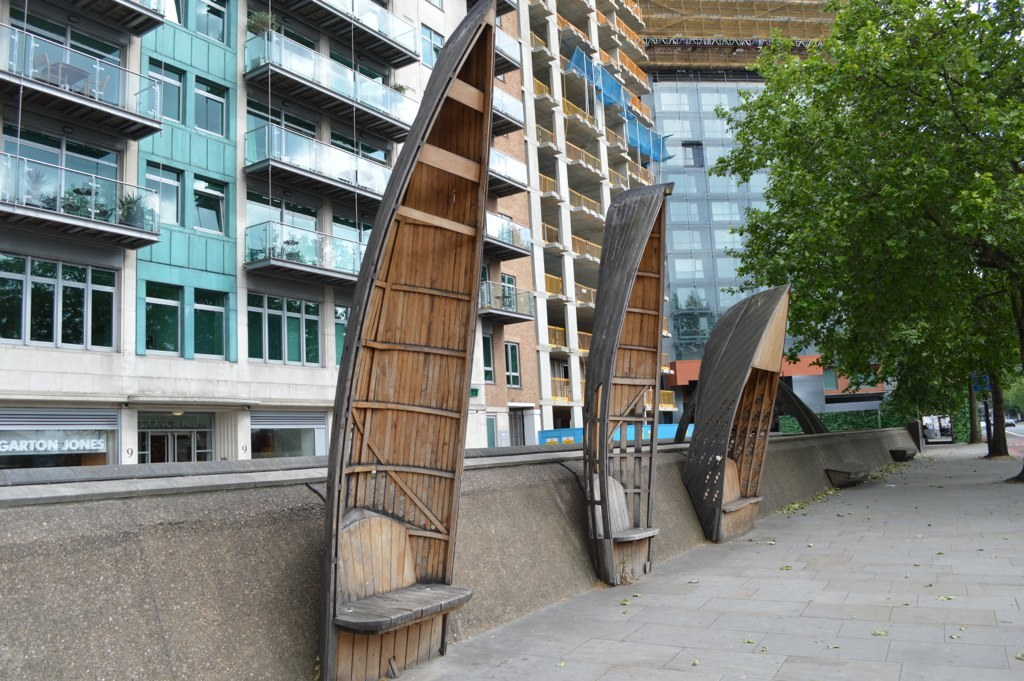Tree: (696, 0, 1022, 456), (796, 191, 1022, 443)
